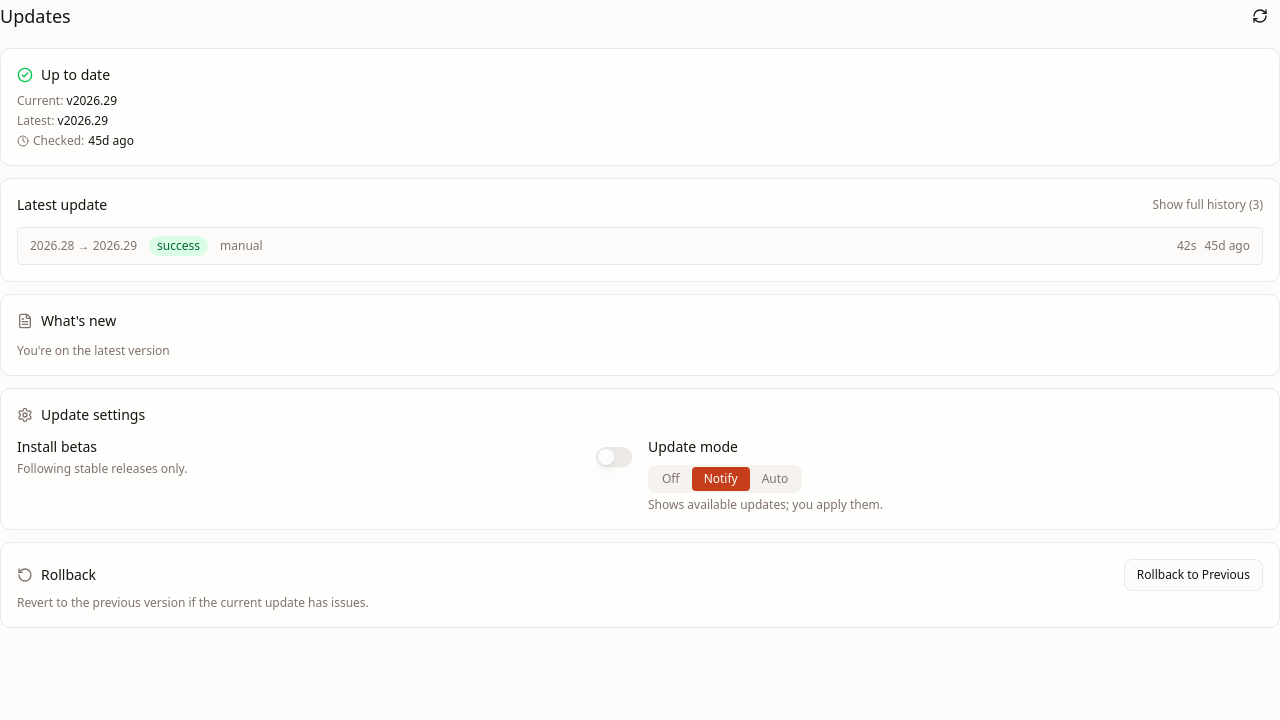
UpdatesSection › latest run and history › shows only the latest run until expanded
Expected: the heading "Latest update" is shown, [17,195,107,215]
Expected: the text "2026.28 → 2026.29" is shown, [30,238,137,254]
Click the button "Show full history (3)": (1208, 205) [1152,197,1263,213]
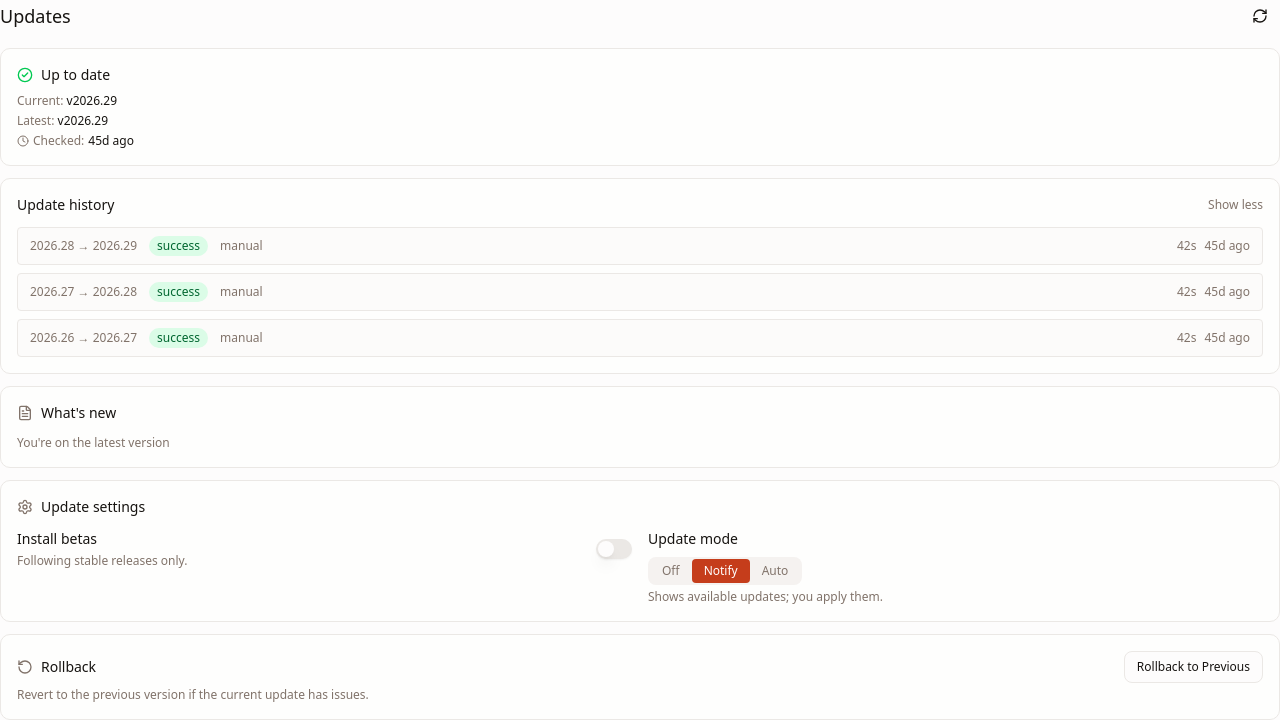
Expected: the heading "Update history" is shown, [17,195,114,215]
Expected: the text "2026.27 → 2026.28" is shown, [30,284,137,300]
Expected: the text "2026.26 → 2026.27" is shown, [30,330,137,346]
Click the button "Show less": (1236, 205) [1208,197,1263,213]
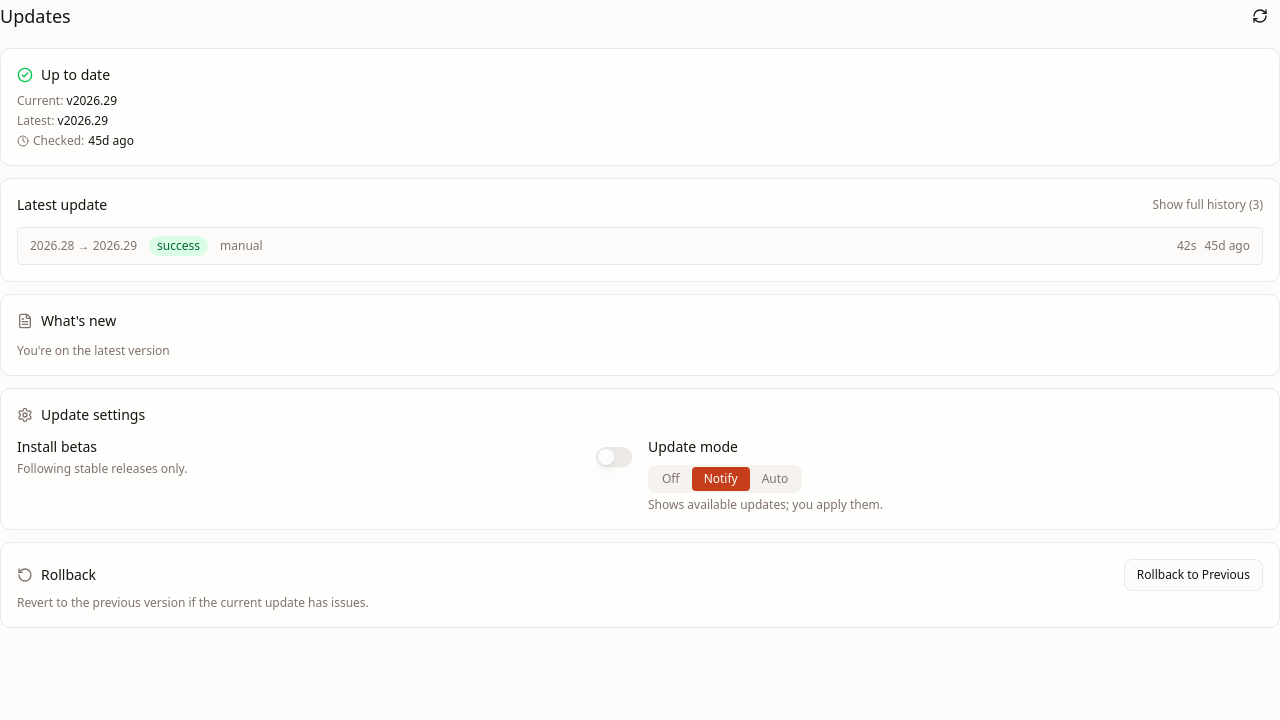
Expected: the text "2026.27 → 2026.28" is gone
